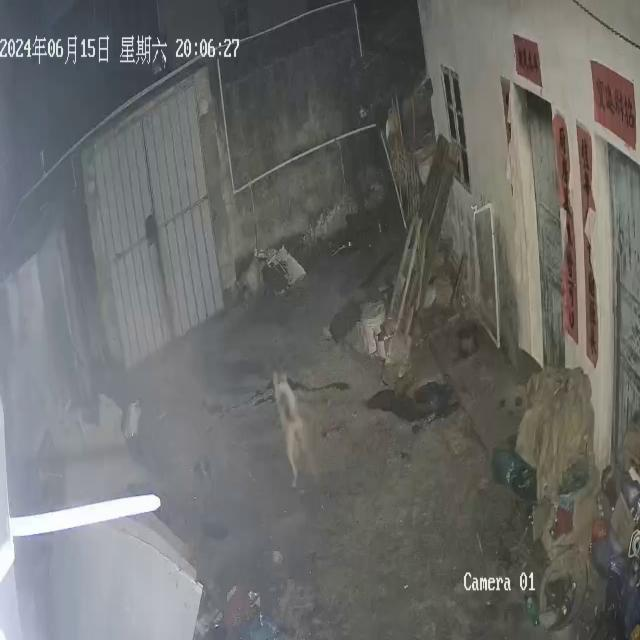dog: (272, 371, 309, 489)
